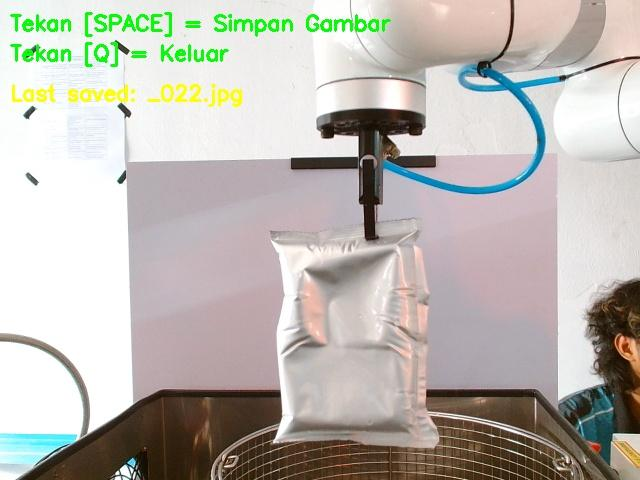retort-pouch: (261, 218, 436, 448)
